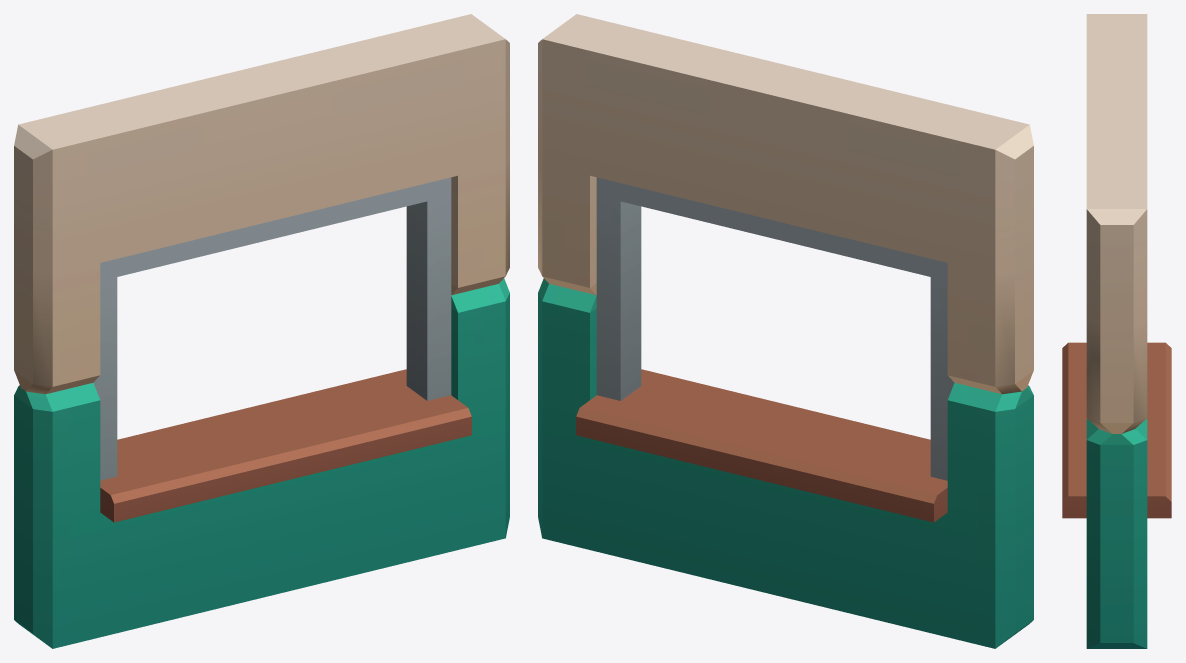
The model's file is wall-orderwindow.glb.
3 views of the same model, side by side, from view 1: azimuth 30°, elevation 25°; view 2: azimuth 150°, elevation 25°; view 3: azimuth 270°, elevation 25° (orthographic). The views are drawn at different scales.
Visible parts, largest first — view 1: wall_orderwindow; view 2: wall_orderwindow; view 3: wall_orderwindow.
Boxes of the visible parts, x1,y1,x2,y2 form: wall_orderwindow: (14,14,509,648); wall_orderwindow: (538,14,1033,648); wall_orderwindow: (1062,14,1171,648).
Size of the model in its own units: 4 by 4 by 0.8999.
Materials: 1 (1 with a texture image).
